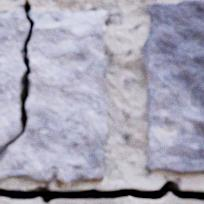brick: (143, 1, 203, 173)
broken_brick: (0, 12, 108, 183), (0, 10, 28, 147)
crack: (0, 0, 35, 161), (0, 180, 203, 203)
